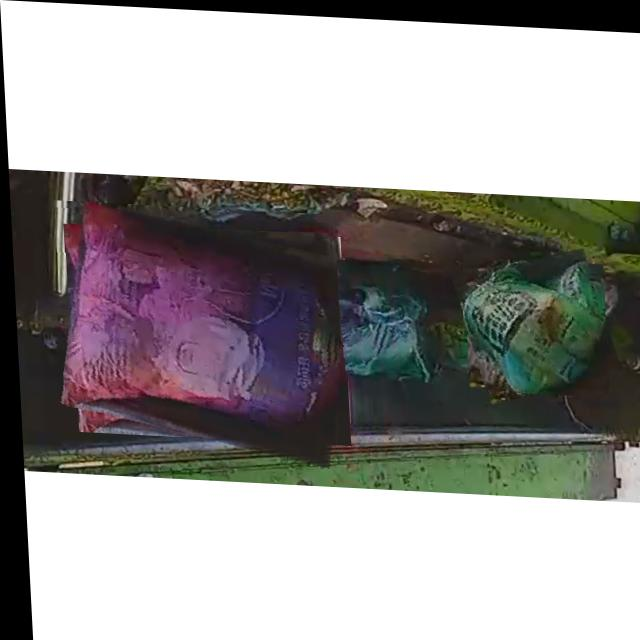general_trashbag: (460, 260, 601, 388), (334, 256, 428, 375)
other_trashbag: (60, 201, 338, 416)
